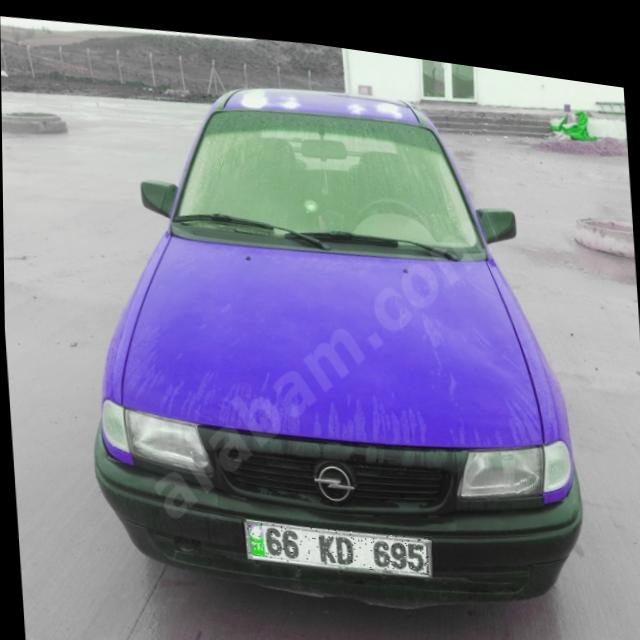license_plate: (243, 505, 430, 573)
